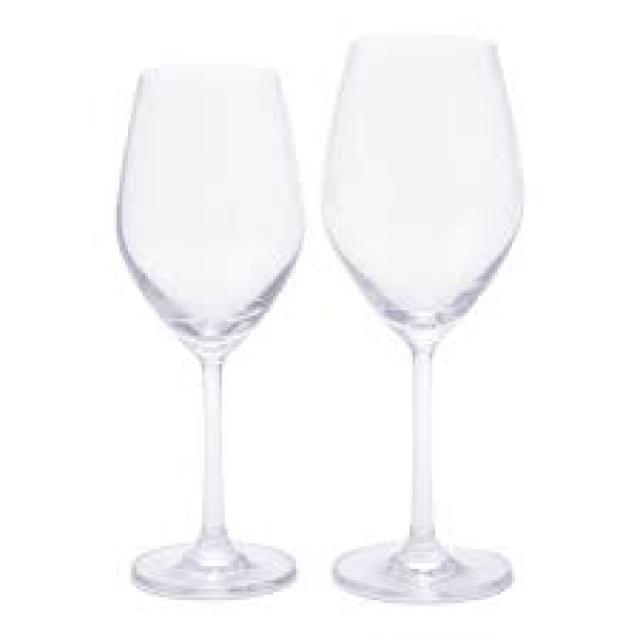glass: (322, 31, 521, 600), (120, 66, 302, 595)
